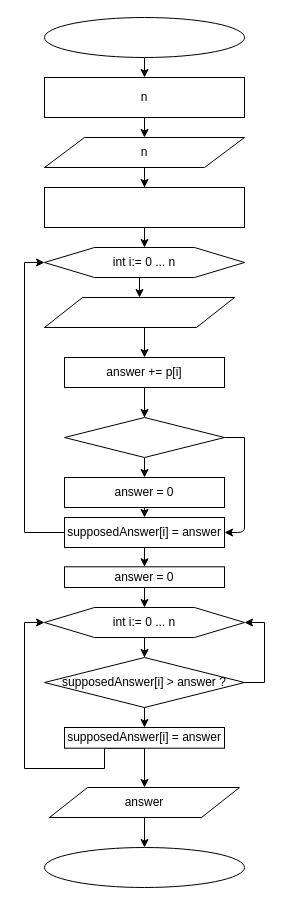
This 290x905 diagram has some shape labels left out. The box of each missing label's shape, as (x1, y1, x2, y2) in pixels:
answer < 0 ?: (64, 416, 224, 458)
p[i]: (44, 296, 234, 328)
p[n], supposedAnswer[n], answer = 0: (44, 186, 244, 228)
Конец: (44, 846, 244, 888)
Начало: (44, 16, 244, 58)
